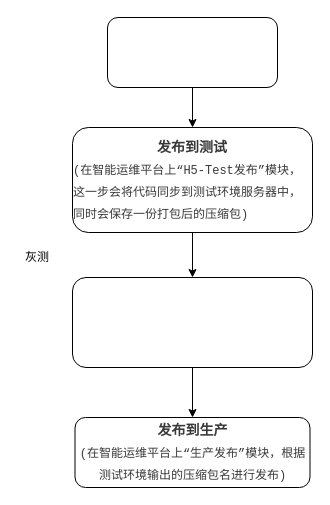
The diagram is 330 pixels wide and 505 high, and some of its shapes have lost their labels. The shapes that lost their labels are listed below. From the top down, each one's box as (x1, y1, x2, y2) in pixels, then its label:
(106, 16, 278, 88): 构建 开发者本地使用ks build进行打包并提交到远程仓库
(72, 276, 312, 368): 发布到gamma (在智能运维平台上“Gamma发布”模块，根据测试环境输出的压缩包名进行发布)
